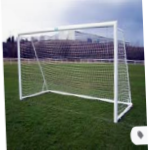goals: (16, 20, 133, 123)
